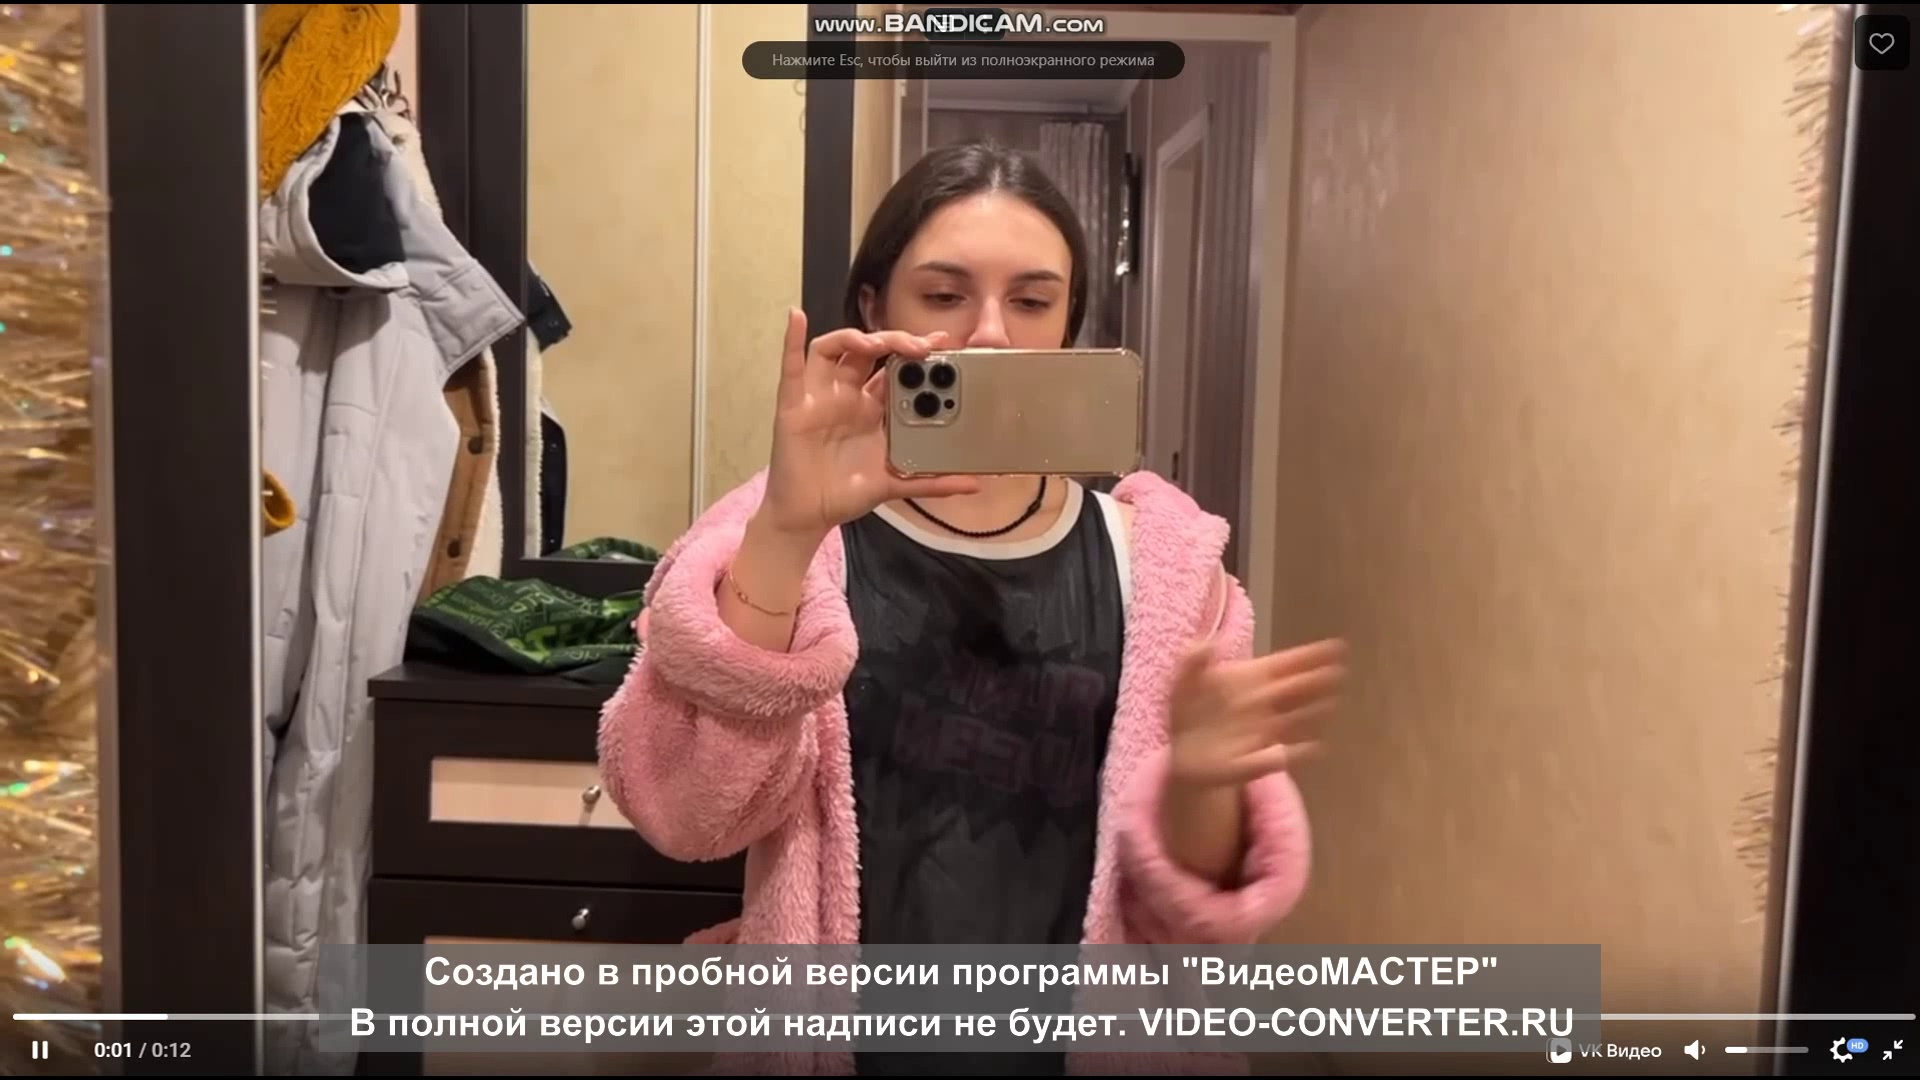Ладонь: (1164, 636, 1346, 775)
